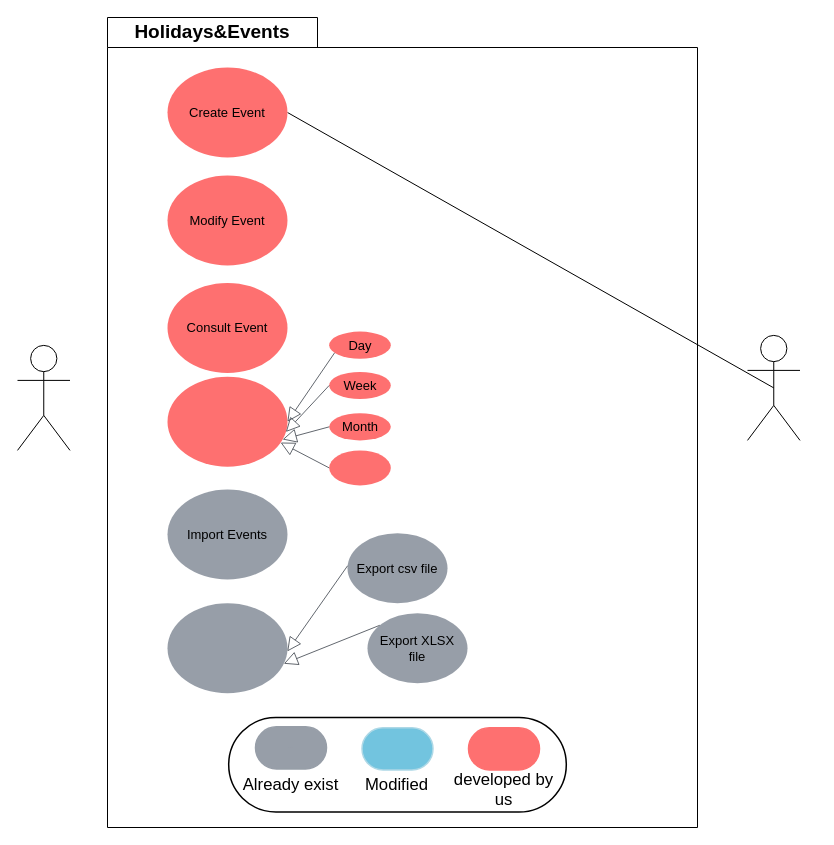
This 834x845 diagram has some shape labels left out. Here are the shapes that lost their labels. From the top down, the centre of each, then its label:
At [43,397]: "Actor".
At [773,387]: "Calendarific API".
At [227,421]: "Consult Events Calender".
At [359,467]: "Year".
At [227,648]: "Export Export".
